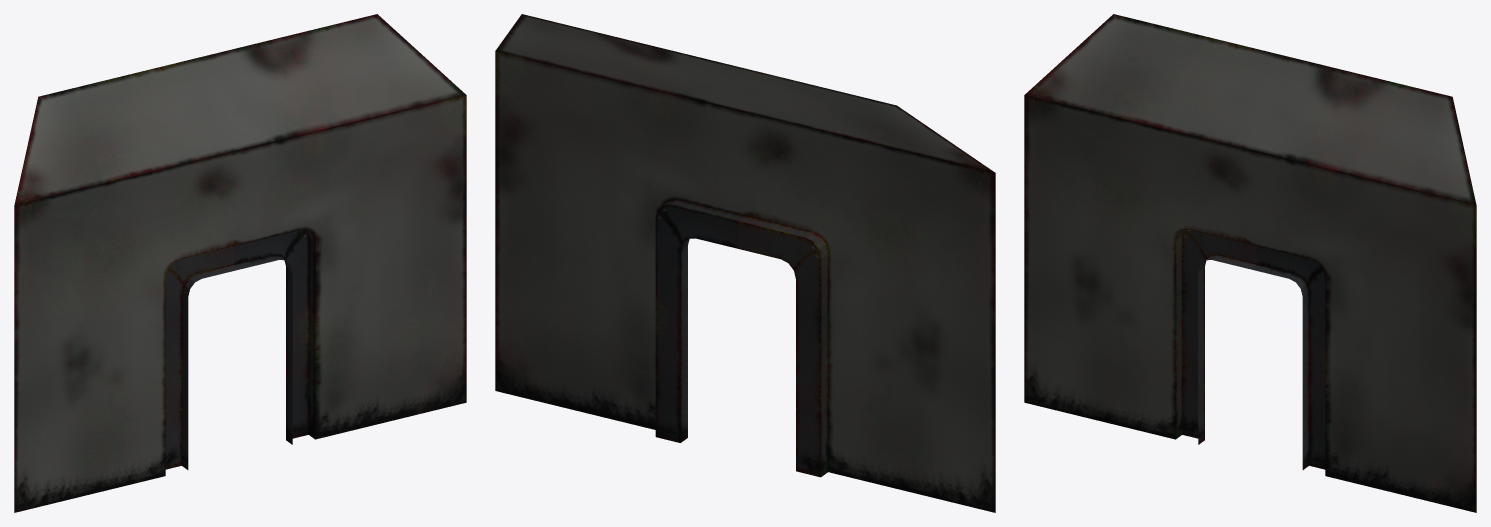
The model's file is Wall_4.fbx.
3 renders of one model, left to right at view 1: azimuth 30°, elevation 25°; view 2: azimuth 150°, elevation 25°; view 3: azimuth 330°, elevation 25°, orthographic. The views are drawn at different scales.
Visible parts, largest first — view 1: wall 4 model; view 2: wall 4 model; view 3: wall 4 model.
Boxes of the visible parts, x1,y1,x2,y2 form: wall 4 model: (14,14,466,512); wall 4 model: (495,14,995,512); wall 4 model: (1024,14,1476,512).
Size of the model in its own units: 125 by 1000 by 800.
